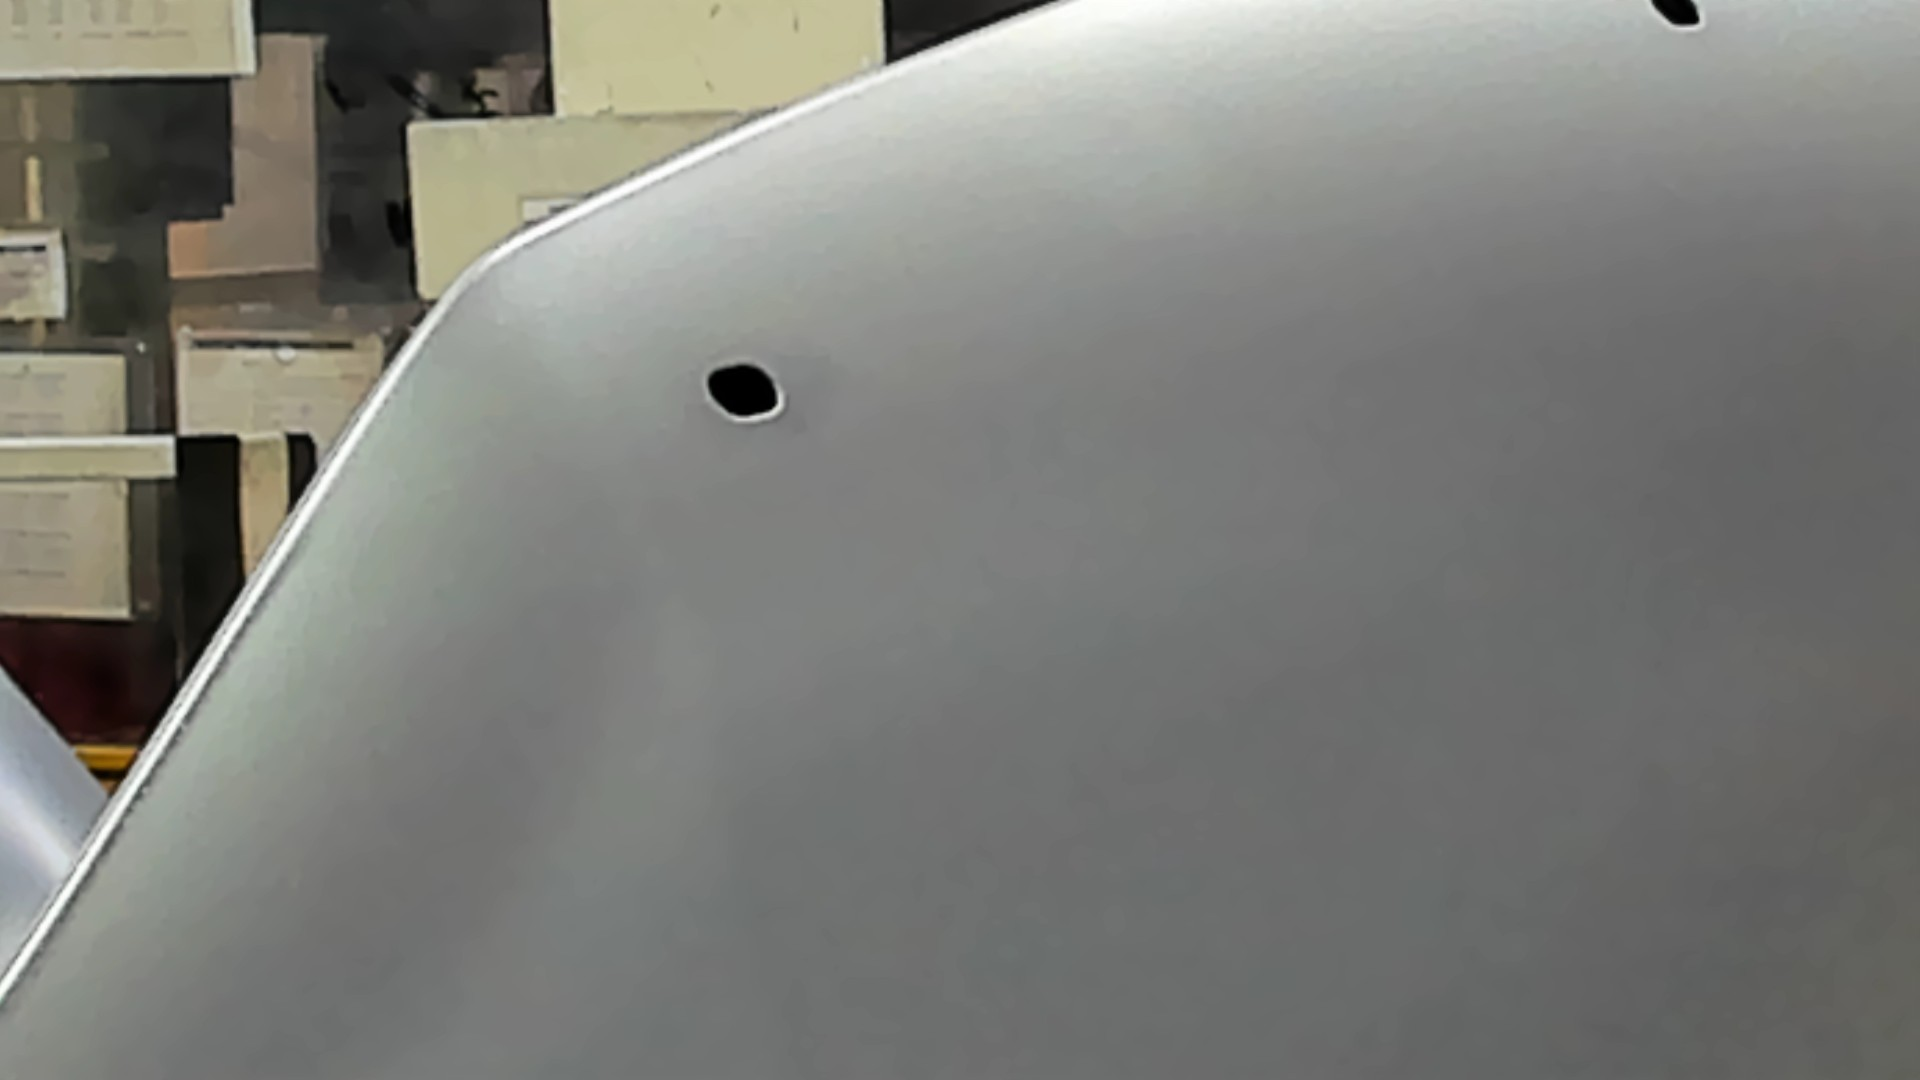amorfo: (700, 355, 787, 425), (1646, 1, 1709, 38)
capo: (899, 94, 1920, 1080)
